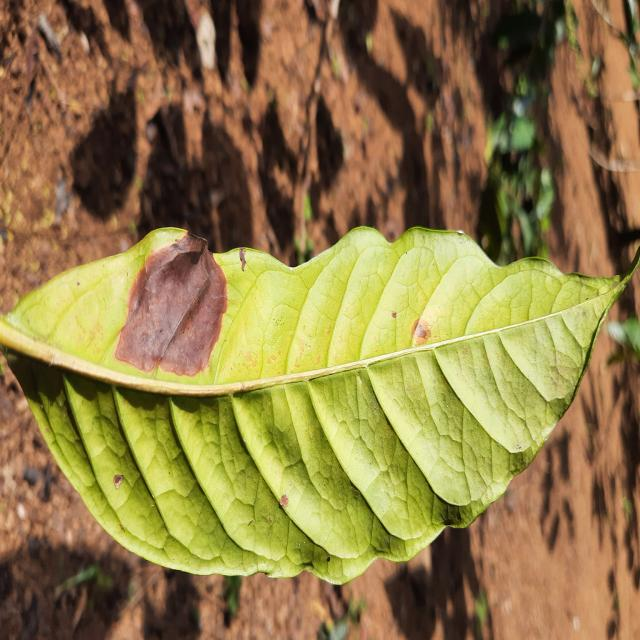Enfermedad-Mancha-de-hierro: (0, 228, 631, 588)
